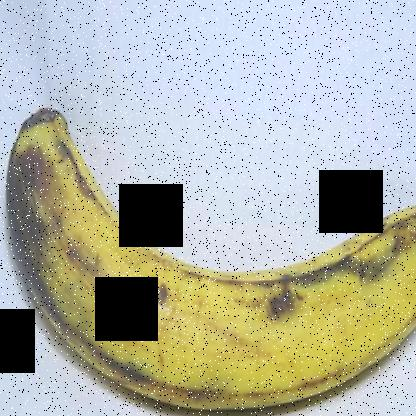ripe: (1, 100, 415, 415)
